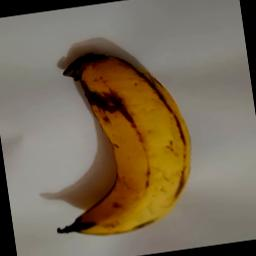Banana Unripe: (37, 42, 202, 244)
